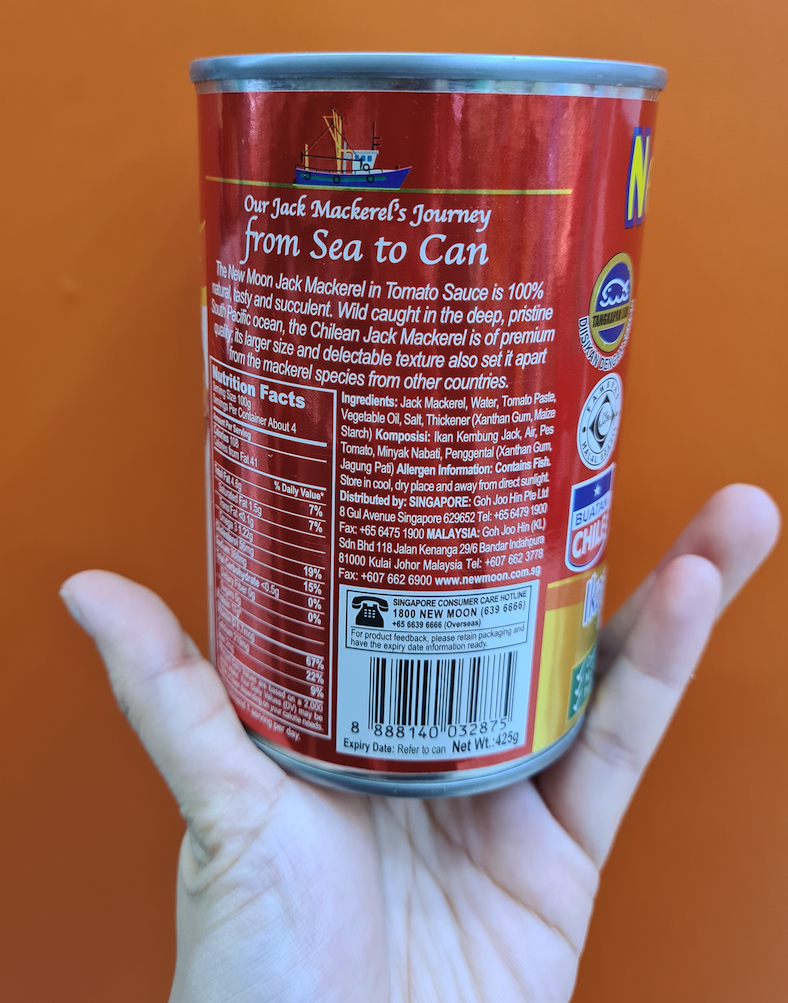Canned_Sardines_and_Mackerel: (190, 59, 622, 765)
